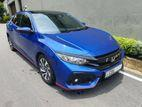car: (6, 10, 124, 92)
